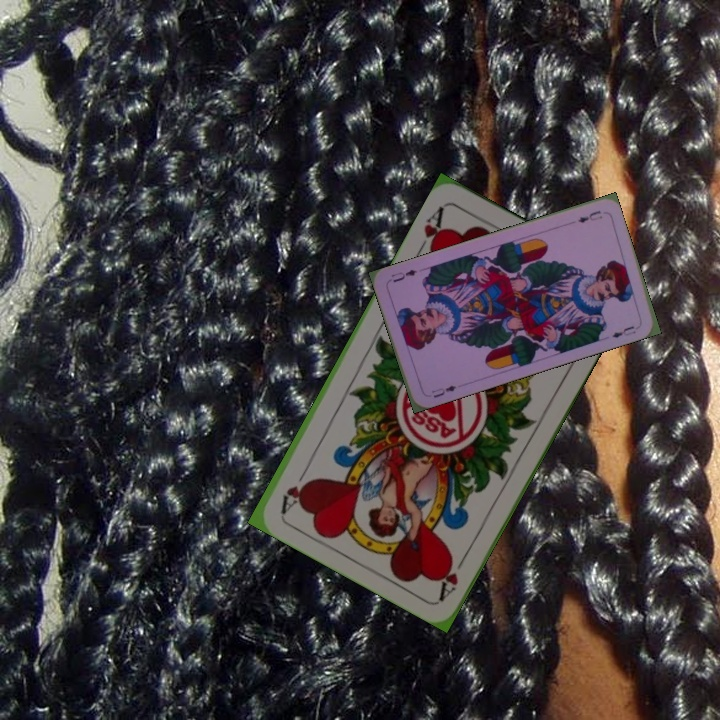EU: (428, 381, 459, 401), (574, 206, 605, 226)
HA: (435, 546, 471, 601), (413, 202, 448, 258)
